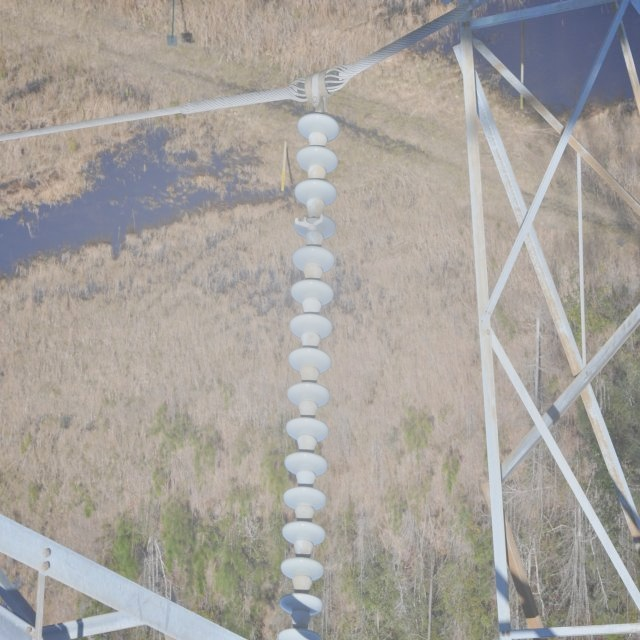broken: (294, 214, 326, 228)
insulator: (276, 111, 340, 638)
